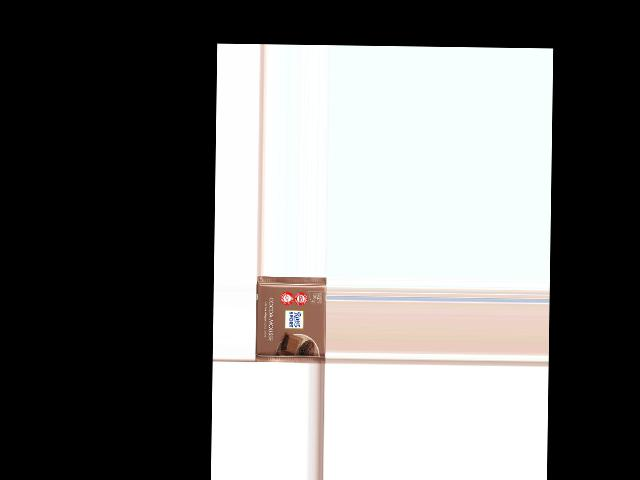chocolate: (254, 277, 326, 363)
